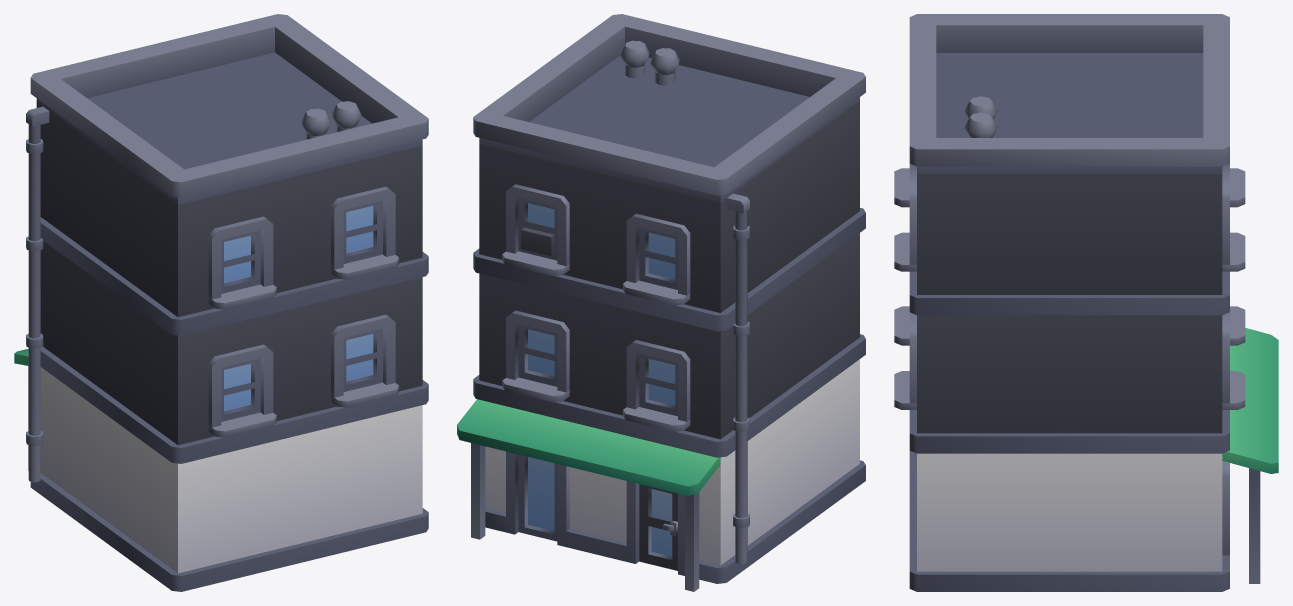
Rendered from building-h.glb.
3 views of the same model, side by side, from view 1: azimuth 30°, elevation 25°; view 2: azimuth 150°, elevation 25°; view 3: azimuth 270°, elevation 25° (orthographic). The views are drawn at different scales.
Visible parts, largest first — view 1: building-h; view 2: building-h; view 3: building-h.
Part boxes in pixels (box(x1,y1,x2,y2)): building-h: box(14, 14, 428, 591); building-h: box(457, 14, 865, 591); building-h: box(894, 14, 1278, 591).
Bounding box in the file's own units: 0.8835 × 1.29 × 1.01.
Materials: 1 (1 with a texture image).
